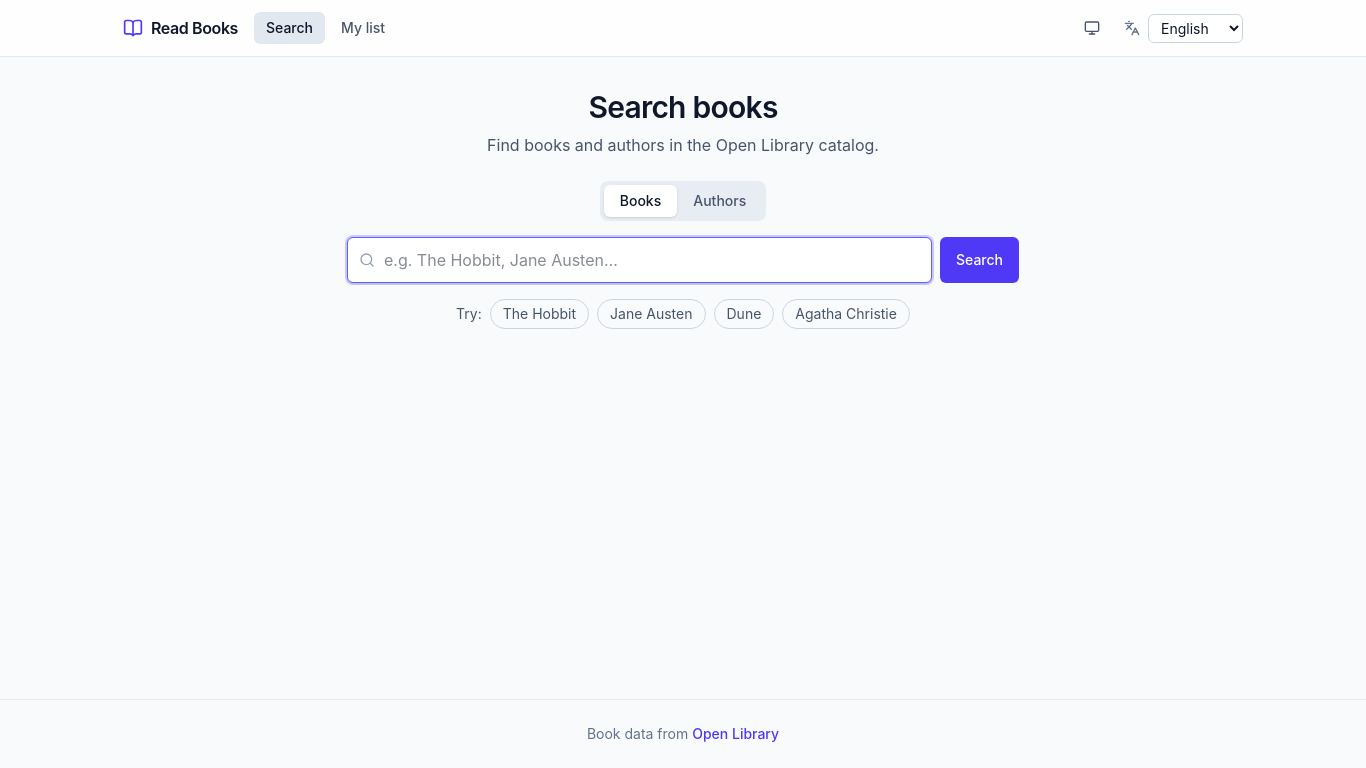
Test case: SearchPage › debounces typing into a single URL update and request
Type "dune" into the search field. click: coordinates (640, 260)
box: x1=347 y1=237 x2=932 y2=283
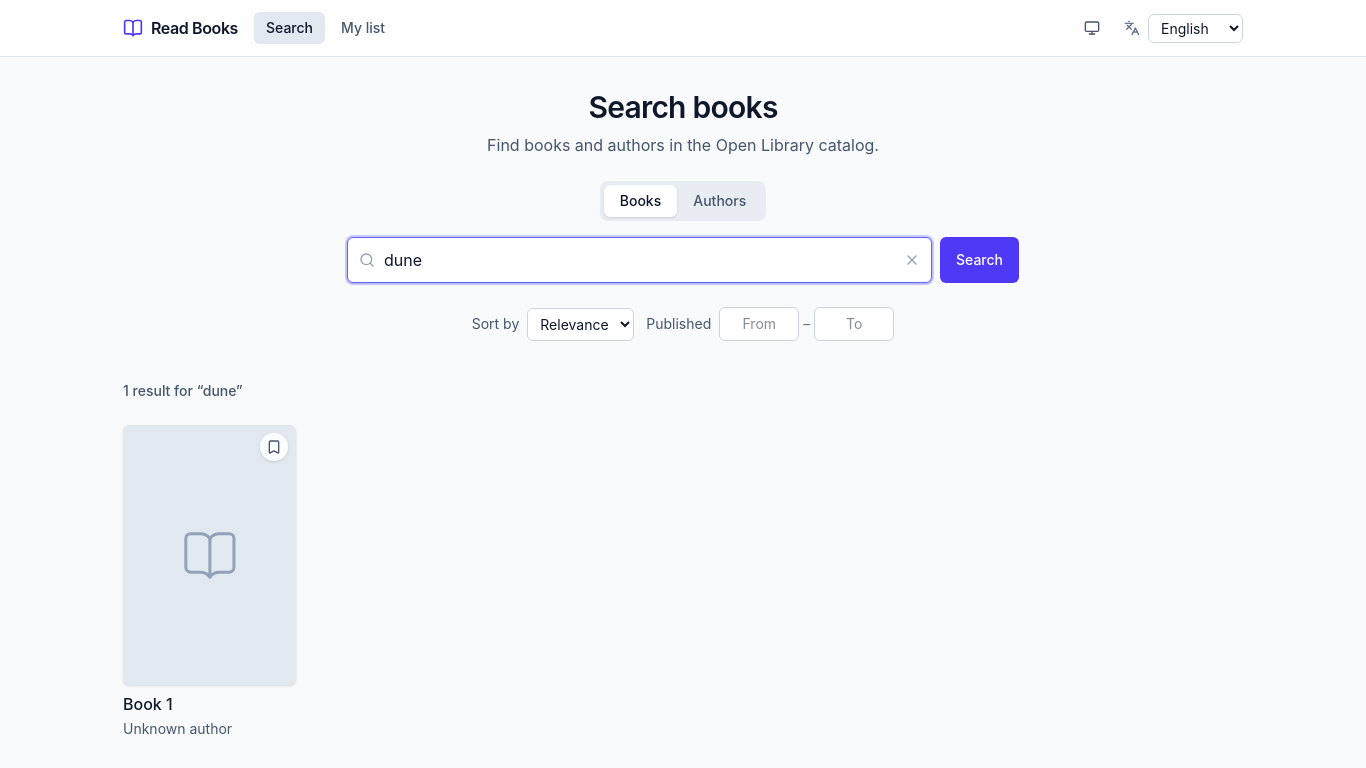
Expected: the link "Book 1" is shown, x1=123 y1=694 x2=173 y2=714
